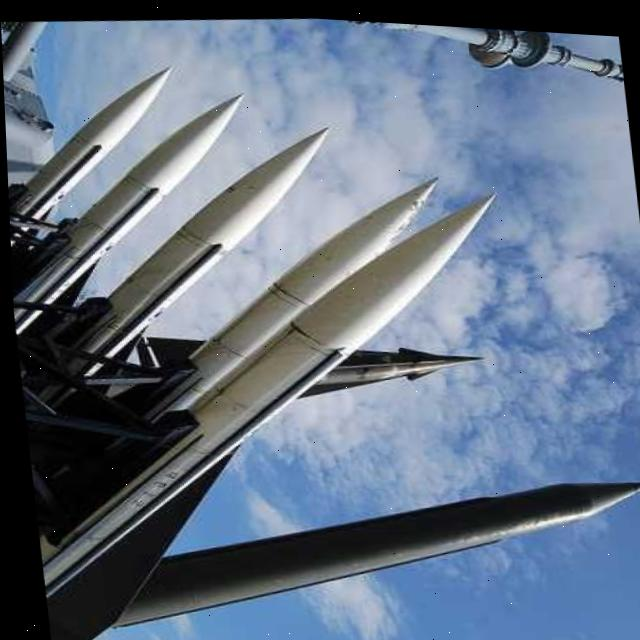missile: (6, 160, 551, 640), (65, 147, 476, 496), (25, 437, 640, 640), (42, 105, 362, 411), (3, 80, 274, 396), (2, 50, 207, 358)
